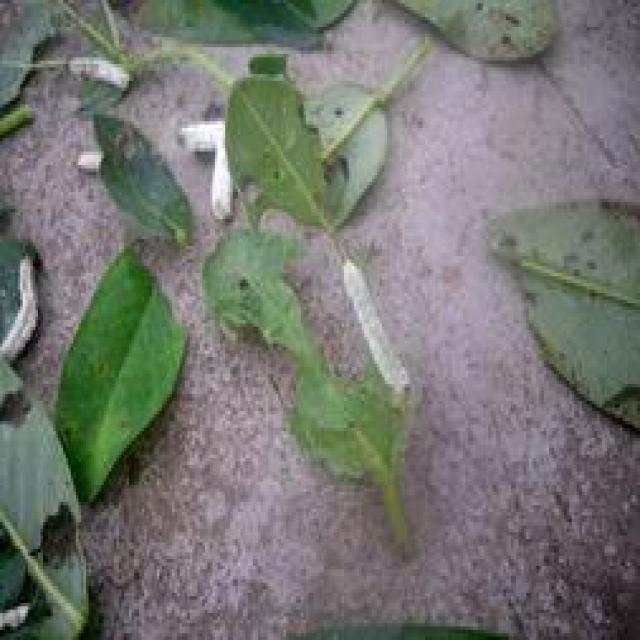BeetArmyWorm-Larva-: (326, 249, 426, 411), (179, 119, 240, 227), (1, 254, 46, 368), (63, 53, 137, 96)
